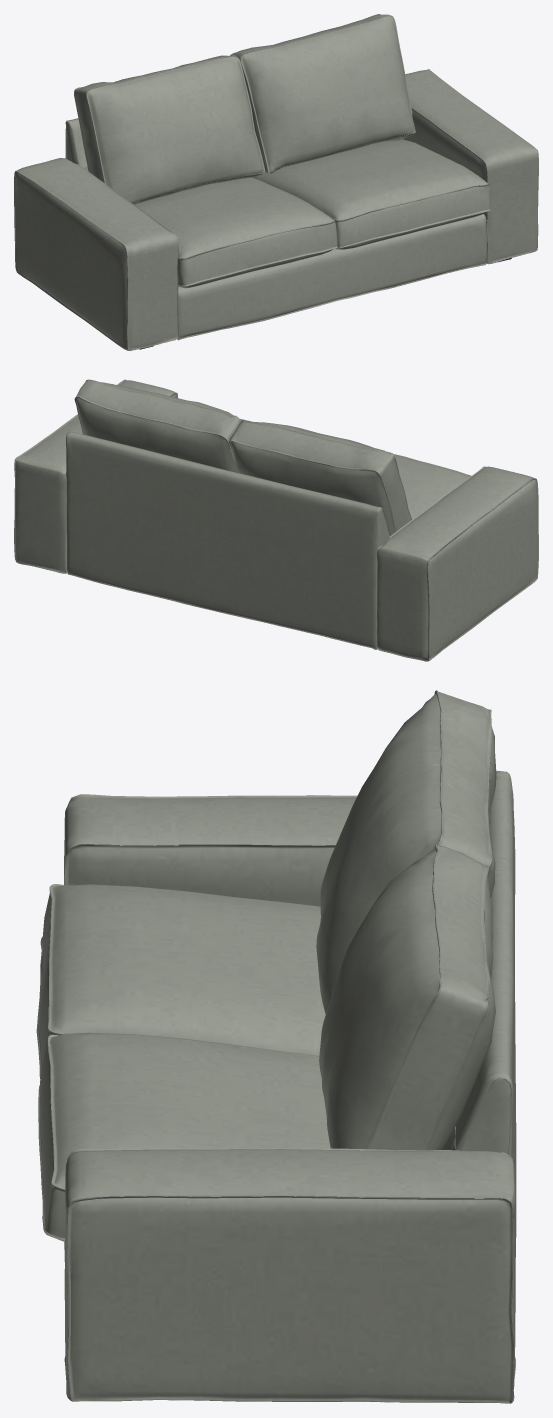
Rendered from cover-gunnared-jasnozielony.glb.
3 views of the same model, one above another, from view 1: azimuth 30°, elevation 25°; view 2: azimuth 150°, elevation 25°; view 3: azimuth 270°, elevation 25° (orthographic). The views are drawn at different scales.
Parts seen in each view (by area): view 1: Mesh_0; view 2: Mesh_0; view 3: Mesh_0.
Part boxes in pixels (x1,y1,x2,y2): Mesh_0: (14,14,538,350); Mesh_0: (14,379,538,661); Mesh_0: (36,690,516,1403).
Bounding box in the file's own units: 1.9 × 0.8299 × 0.9501.
2 materials, 2 textured.
